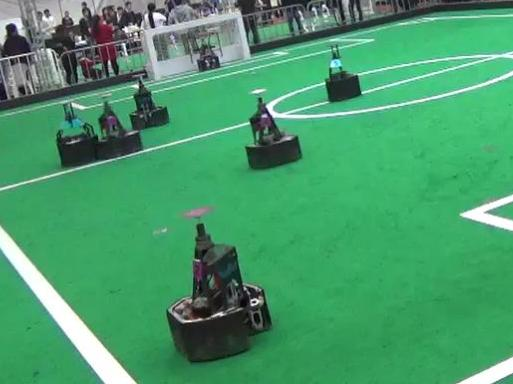robot: (157, 200, 275, 362), (236, 84, 310, 172), (319, 41, 366, 104)
